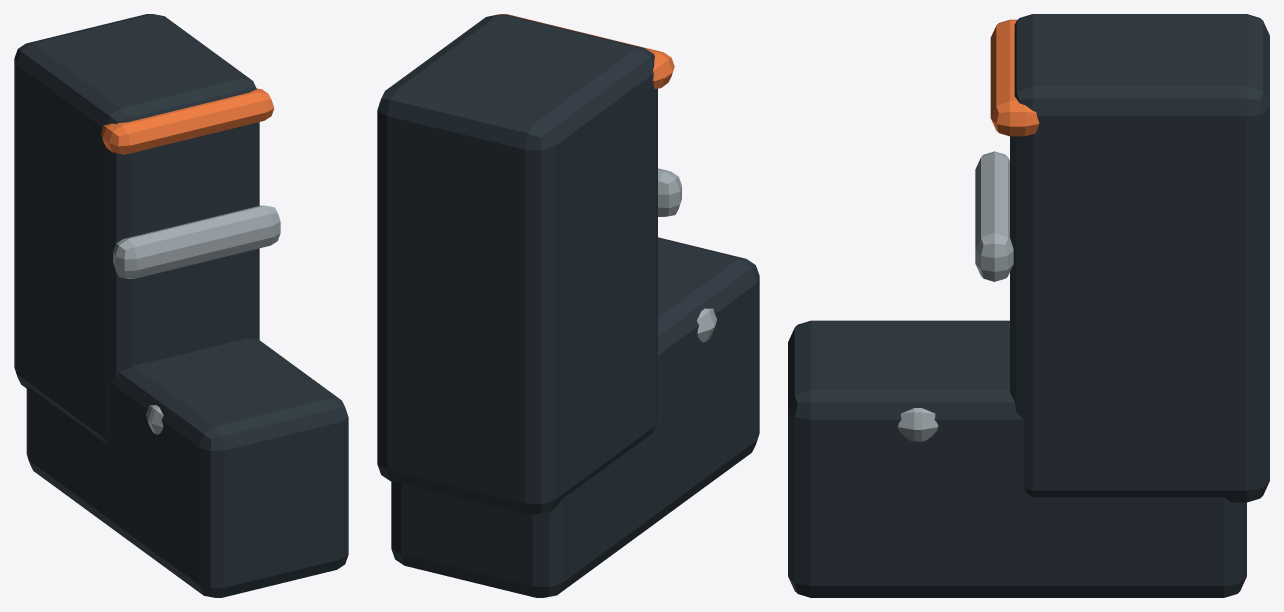
The model's file is boot.glb.
3 renders of one model, left to right at view 1: azimuth 30°, elevation 25°; view 2: azimuth 150°, elevation 25°; view 3: azimuth 270°, elevation 25°, orthographic. The views are drawn at different scales.
Visible parts, largest first — view 1: boot; view 2: boot; view 3: boot.
Boxes of the visible parts, <box> form: boot: <box>14,14,348,597</box>; boot: <box>377,14,759,597</box>; boot: <box>788,14,1269,597</box>.
Size of the model in its own units: 0.15 by 0.37 by 0.315.
